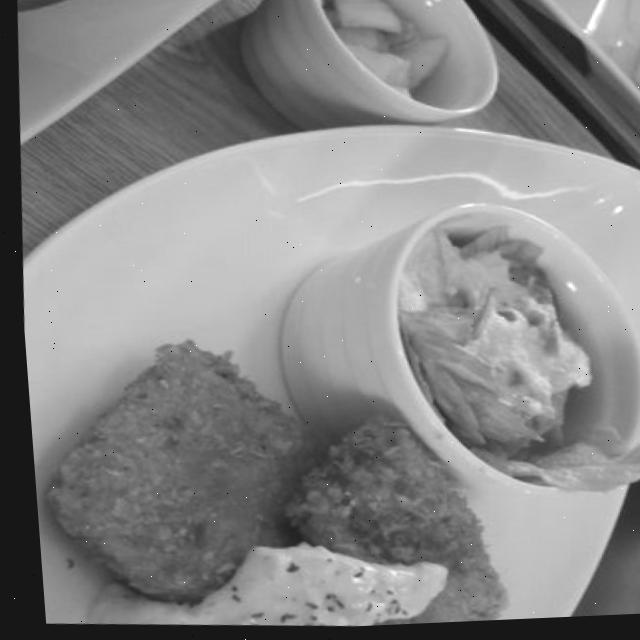炸货点心: (28, 288, 503, 640)
熟制海鲜: (28, 288, 503, 640)
